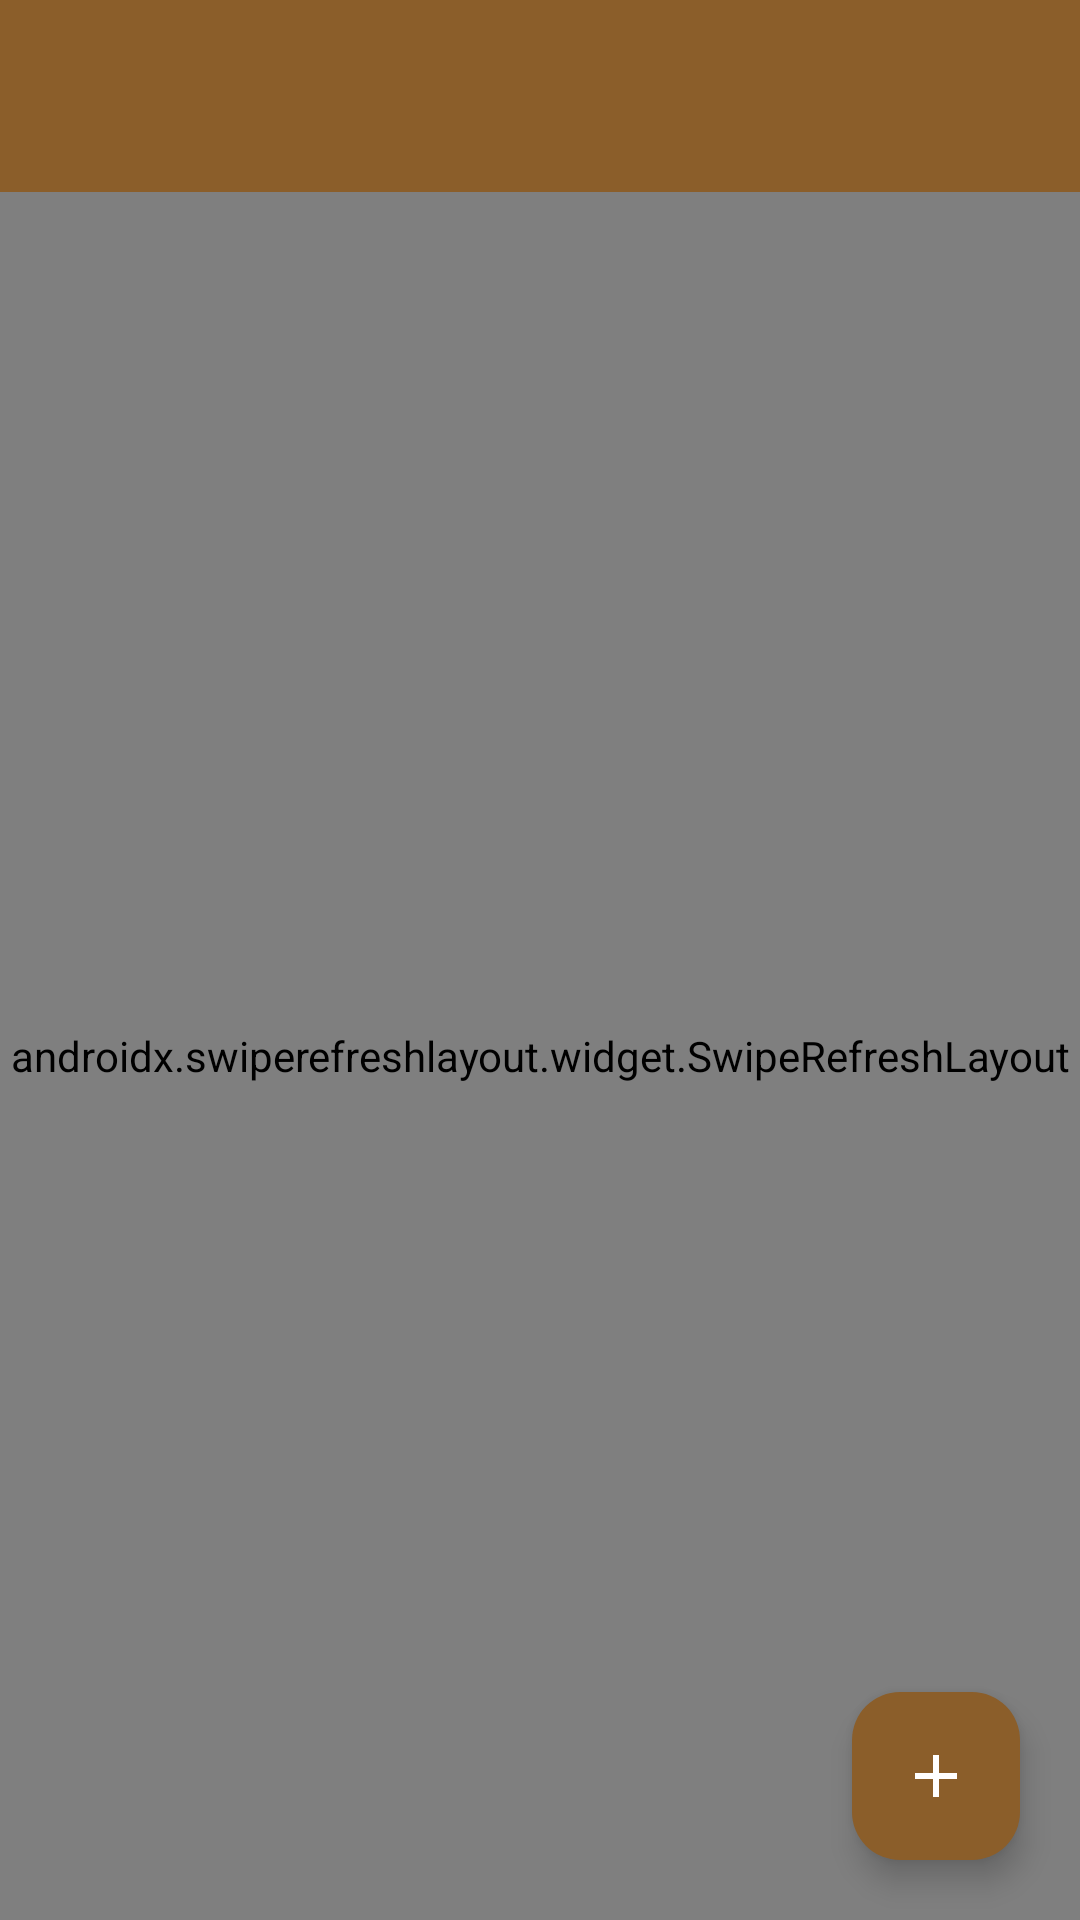

Screen size 1080x1920. Icon name, then its box in pixels as (x1, y1, x2, y2):
إضافة خادم جديد: (852, 1692, 1020, 1860)
